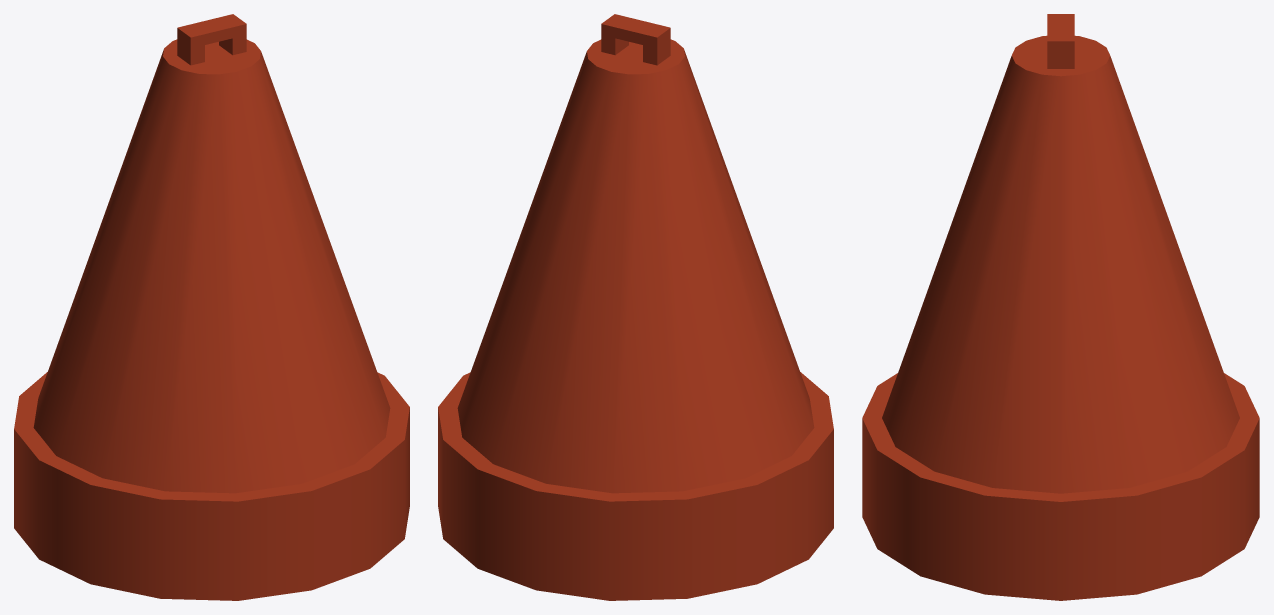
Rendered from Buoys.fbx.
The picture shows the model from 3 angles, left to right: view 1: azimuth 30°, elevation 25°; view 2: azimuth 150°, elevation 25°; view 3: azimuth 270°, elevation 25°; orthographic projection.
Visible parts, largest first — view 1: Buoys; view 2: Buoys; view 3: Buoys.
Boxes of the visible parts, x1,y1,x2,y2 form: Buoys: [14, 14, 409, 600]; Buoys: [438, 14, 833, 600]; Buoys: [862, 14, 1259, 600].
Bounding box in the file's own units: 77.58 × 105 × 77.58.
